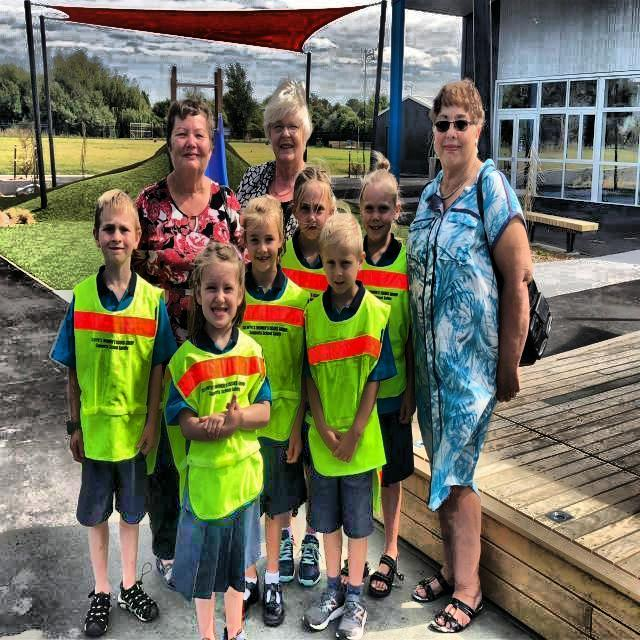safety_jacket: (282, 258, 411, 494), (170, 329, 276, 514), (68, 275, 166, 464)
